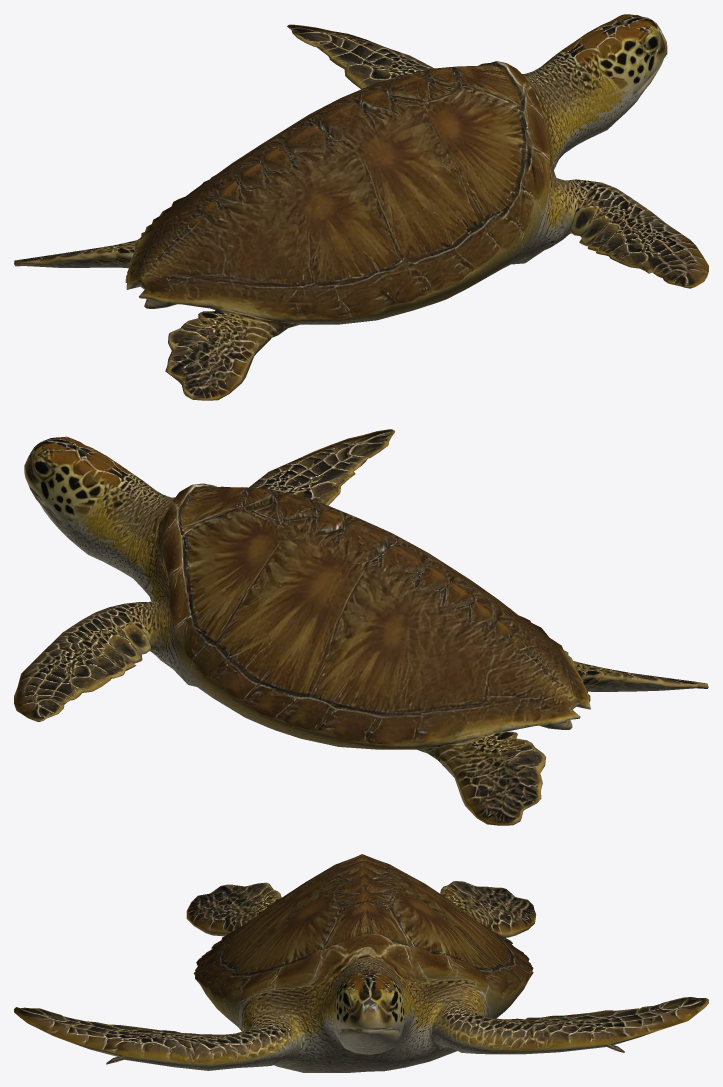
File: groene_schildpad.glb
3 views of the same model, one above another, from view 1: azimuth 30°, elevation 25°; view 2: azimuth 150°, elevation 25°; view 3: azimuth 270°, elevation 25° (orthographic). The views are drawn at different scales.
Parts seen in each view (by area): view 1: tripo_node_d99748cc-d577-4f10-965f-a39f1597881b; view 2: tripo_node_d99748cc-d577-4f10-965f-a39f1597881b; view 3: tripo_node_d99748cc-d577-4f10-965f-a39f1597881b.
Boxes of the visible parts, <box> form: tripo_node_d99748cc-d577-4f10-965f-a39f1597881b: <box>14,14,708,400</box>; tripo_node_d99748cc-d577-4f10-965f-a39f1597881b: <box>14,429,708,825</box>; tripo_node_d99748cc-d577-4f10-965f-a39f1597881b: <box>14,854,708,1072</box>.
Size of the model in its own units: 3.89 by 1.2 by 4.35.
Materials: 1 (1 with a texture image).
